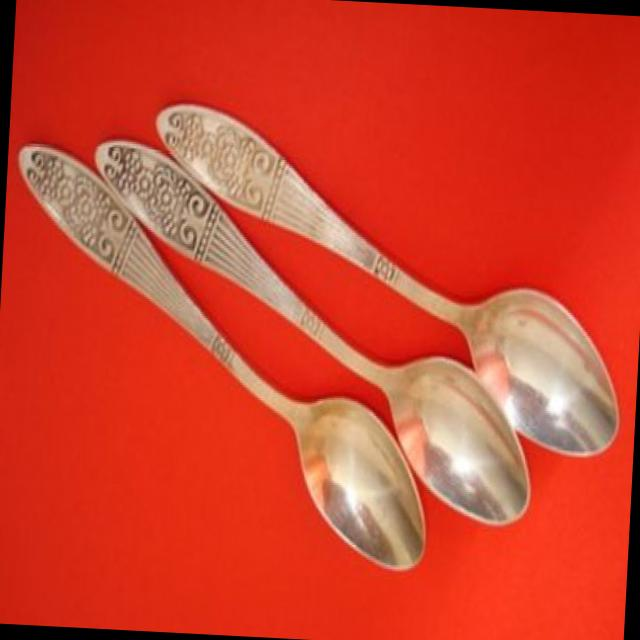spoon: (0, 127, 445, 581)
